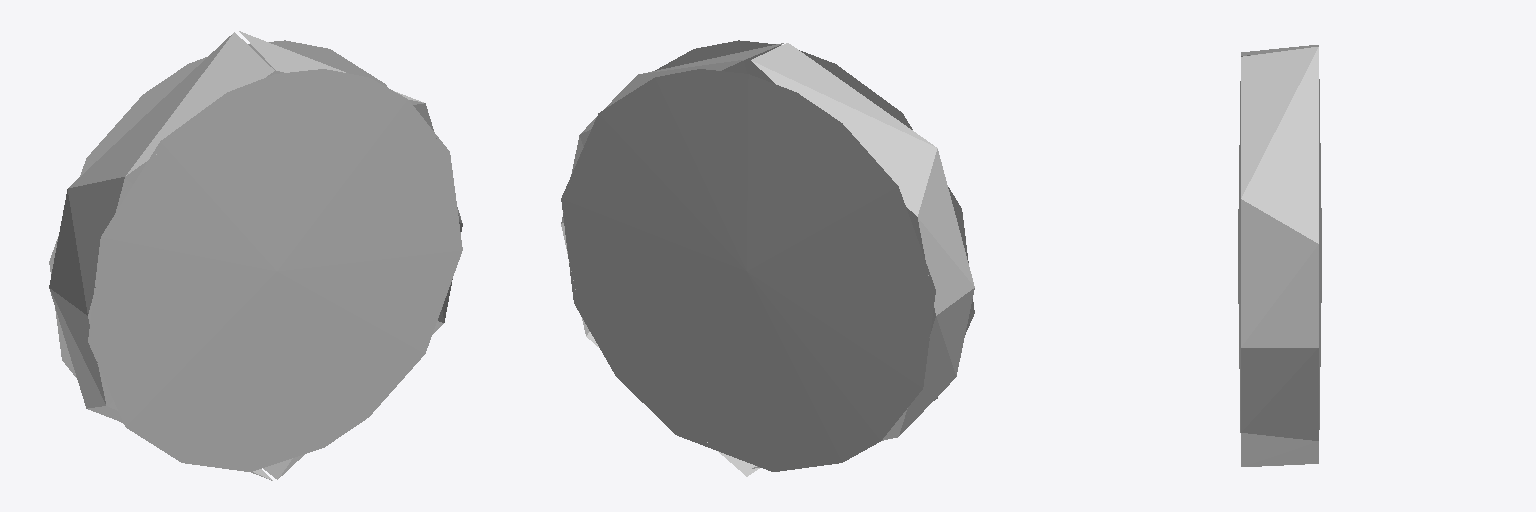
The model's file is Coin_LOD2.obj.
The picture shows the model from 3 angles: view 1: azimuth 30°, elevation 25°; view 2: azimuth 150°, elevation 25°; view 3: azimuth 270°, elevation 25°; orthographic projection.
Parts seen in each view (by area): view 1: Coin__BodyMT_Mesh; view 2: Coin__BodyMT_Mesh; view 3: Coin__BodyMT_Mesh.
Part boxes in pixels (left/top/right/bottom): Coin__BodyMT_Mesh: left=49, top=31, right=462, bottom=480; Coin__BodyMT_Mesh: left=561, top=40, right=974, bottom=476; Coin__BodyMT_Mesh: left=1238, top=45, right=1321, bottom=466.
Size of the model in its own units: 2.12 by 2.27 by 0.4134.